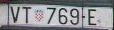-: (81, 14, 86, 19)
6: (58, 8, 67, 25)
7: (45, 7, 57, 26)
9: (70, 8, 79, 25)
E: (88, 8, 98, 26)
T: (22, 5, 32, 24)
V: (11, 6, 21, 24)
